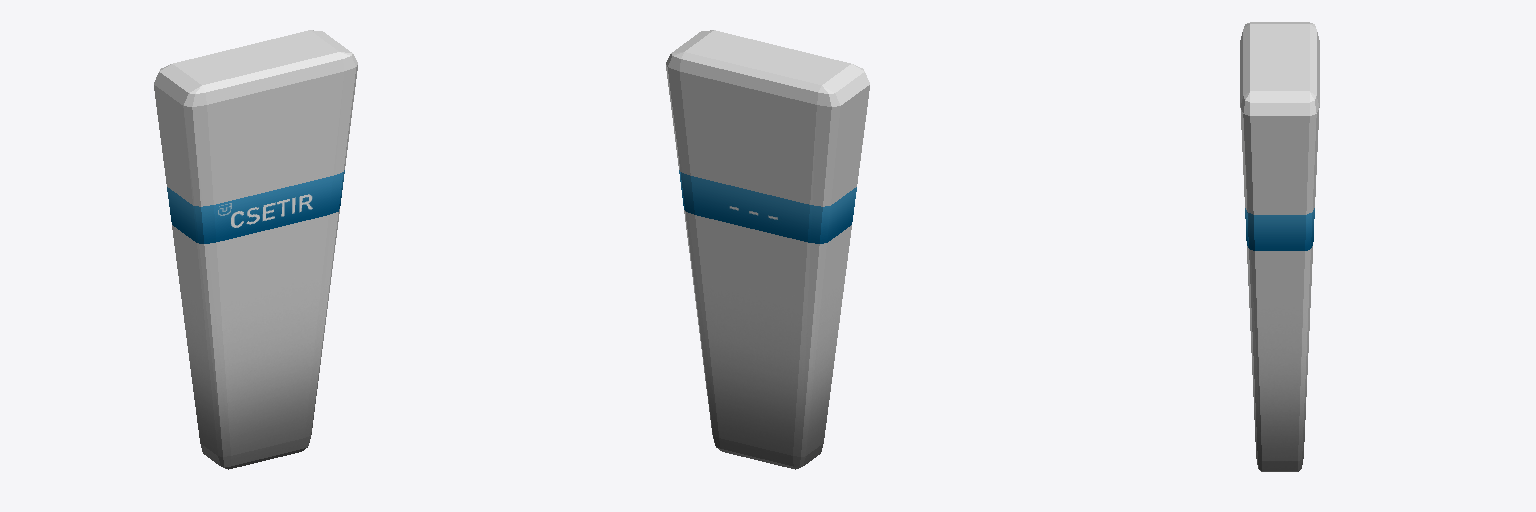
3 renders of one model, left to right at view 1: azimuth 30°, elevation 25°; view 2: azimuth 150°, elevation 25°; view 3: azimuth 270°, elevation 25°, orthographic.
Parts seen in each view (by area): view 1: ChamferBox001; view 2: ChamferBox001; view 3: ChamferBox001.
Part boxes in pixels (x1,y1,x2,y2): ChamferBox001: (154,30,357,469); ChamferBox001: (666,30,869,469); ChamferBox001: (1240,22,1319,471).
Size of the model in its own units: 3.25 by 7.04 by 1.27.
1 materials, 1 textured.